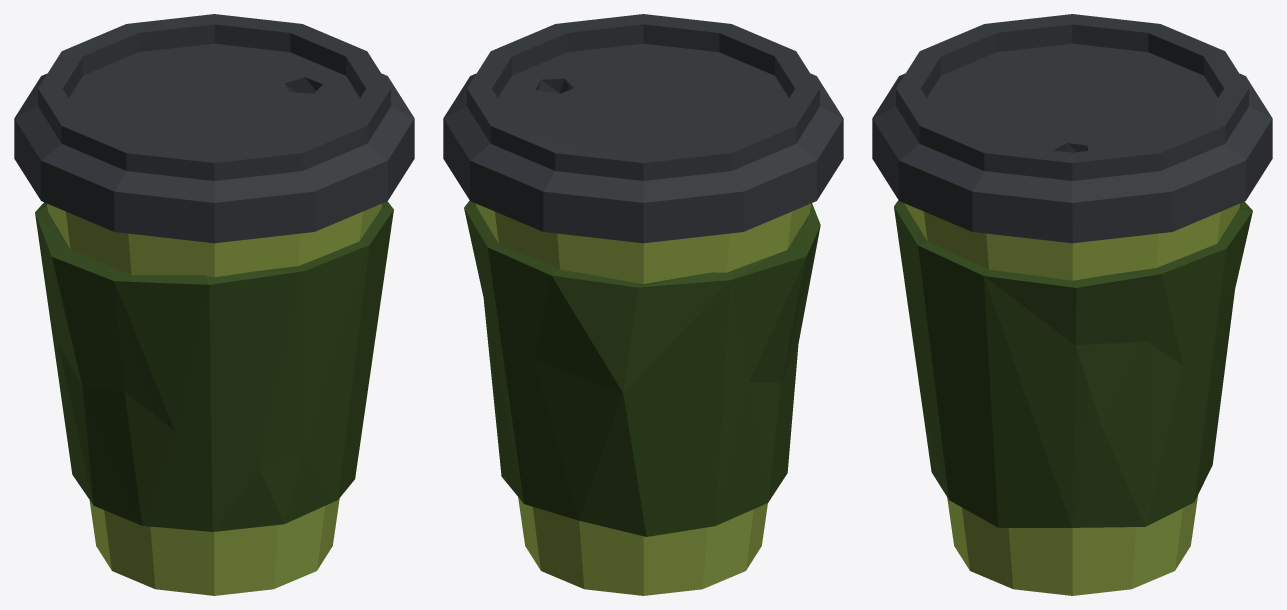
The model's file is Cup_02.fbx.
The picture shows the model from 3 angles, left to right: view 1: azimuth 30°, elevation 25°; view 2: azimuth 150°, elevation 25°; view 3: azimuth 270°, elevation 25°; orthographic projection.
Visible parts, largest first — view 1: Cup_02; view 2: Cup_02; view 3: Cup_02.
Boxes of the visible parts, x1,y1,x2,y2 form: Cup_02: (14,14,414,595); Cup_02: (443,14,843,595); Cup_02: (872,14,1272,595).
Size of the model in its own units: 0.1266 by 0.1596 by 0.1266.
